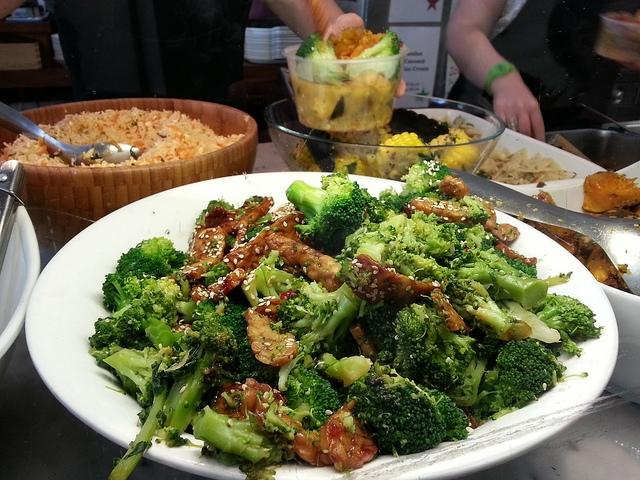broccoli: (156, 324, 258, 438), (482, 338, 588, 420), (346, 369, 447, 453), (268, 275, 364, 357), (192, 405, 294, 480), (108, 368, 175, 480), (393, 304, 476, 394), (286, 172, 372, 257), (447, 251, 548, 310), (443, 279, 533, 341), (102, 343, 172, 407), (536, 295, 606, 357), (280, 363, 342, 430), (116, 293, 178, 352), (379, 214, 453, 260), (116, 236, 178, 280), (398, 160, 452, 196), (359, 304, 399, 350), (354, 234, 406, 264), (352, 30, 403, 60), (88, 316, 125, 348), (296, 32, 338, 60), (416, 236, 456, 260), (252, 268, 280, 299), (462, 195, 492, 222), (367, 197, 394, 223), (459, 262, 486, 269)
corn: (374, 132, 432, 182), (441, 138, 480, 172), (332, 153, 364, 175), (439, 140, 447, 145), (446, 138, 452, 142)
